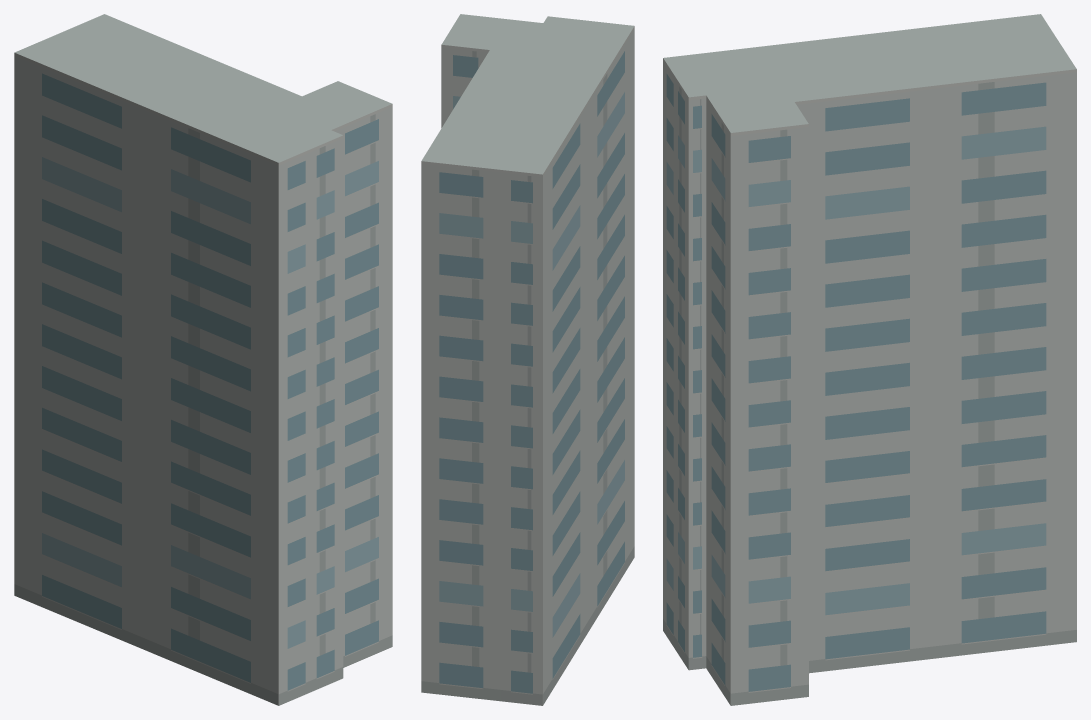
File: residential-15184c31-5205-4b83-b428-aa2cb99561bb.glb
The picture shows the model from 3 angles, left to right: view 1: azimuth 30°, elevation 25°; view 2: azimuth 150°, elevation 25°; view 3: azimuth 270°, elevation 25°; orthographic projection. The views are drawn at different scales.
Parts seen in each view (by area): view 1: residential-15184c31-5205-4b83-b428-aa2cb99561bb.tmp; view 2: residential-15184c31-5205-4b83-b428-aa2cb99561bb.tmp; view 3: residential-15184c31-5205-4b83-b428-aa2cb99561bb.tmp.
Boxes of the visible parts, box(x1,y1,x2,y2) form: residential-15184c31-5205-4b83-b428-aa2cb99561bb.tmp: box(14, 14, 392, 705); residential-15184c31-5205-4b83-b428-aa2cb99561bb.tmp: box(421, 14, 634, 705); residential-15184c31-5205-4b83-b428-aa2cb99561bb.tmp: box(663, 14, 1076, 705).
Size of the model in its own units: 20.06 by 45 by 29.47.
